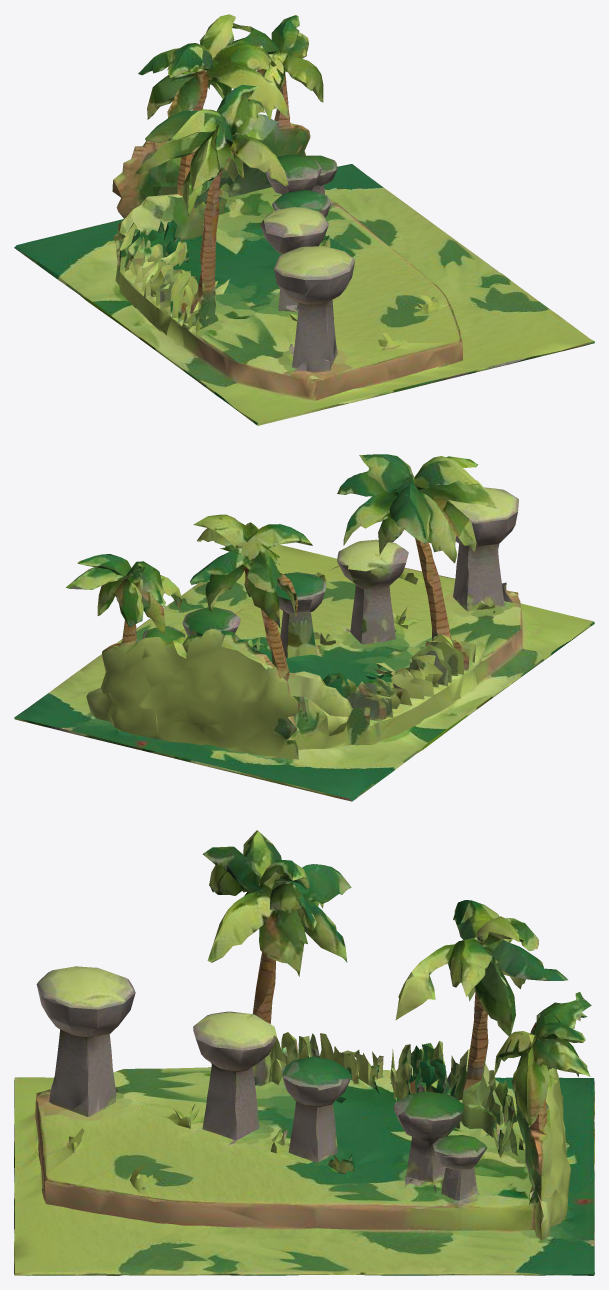
The model's file is latte-stone-park.glb.
The picture shows the model from 3 angles, top to bottom: view 1: azimuth 30°, elevation 25°; view 2: azimuth 150°, elevation 25°; view 3: azimuth 270°, elevation 25°; orthographic projection. The views are drawn at different scales.
Visible parts, largest first — view 1: logan-textured.obj; view 2: logan-textured.obj; view 3: logan-textured.obj.
Boxes of the visible parts, bbox=[...] form: logan-textured.obj: bbox=[14, 14, 594, 425]; logan-textured.obj: bbox=[14, 454, 594, 801]; logan-textured.obj: bbox=[14, 830, 594, 1275].
Size of the model in its own units: 0.8016 by 0.5228 by 1.
1 material, 1 textured.
